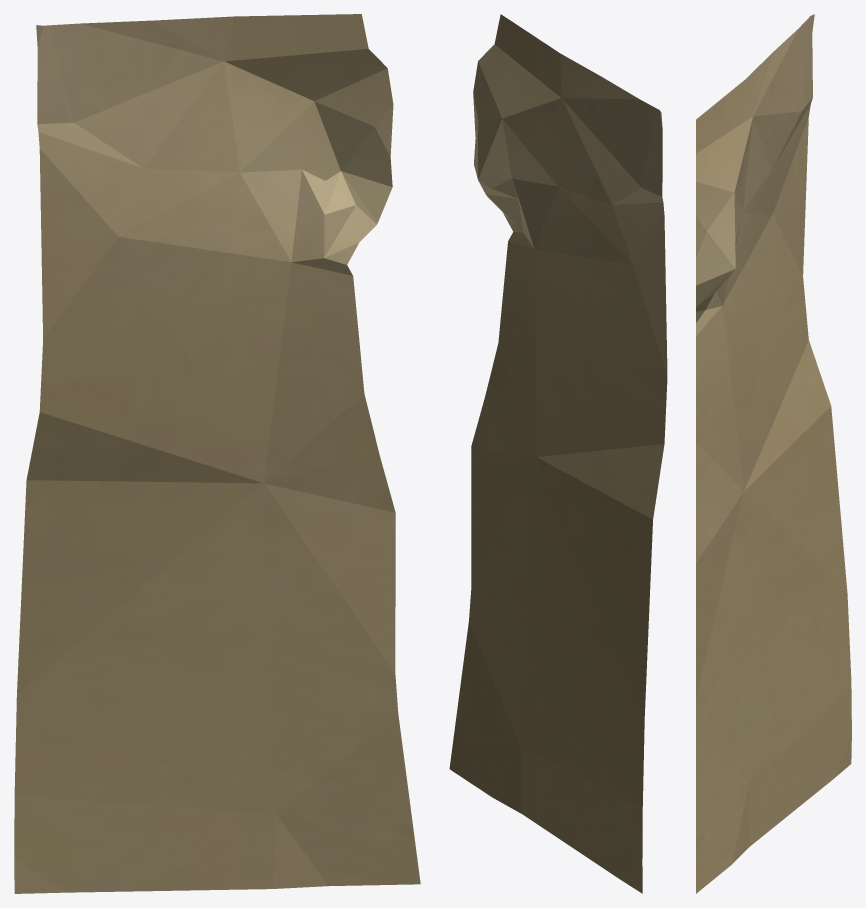
The picture shows the model from 3 angles, left to right: view 1: azimuth 30°, elevation 25°; view 2: azimuth 150°, elevation 25°; view 3: azimuth 270°, elevation 25°; orthographic projection. The views are drawn at different scales.
Size of the model in its own units: 0.3114 by 0.8374 by 0.1579.
Materials: 1 (1 with a texture image).
